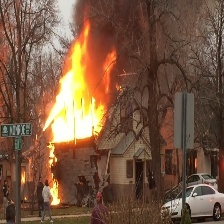fire: (41, 17, 107, 143), (44, 138, 60, 205), (20, 168, 26, 183)
